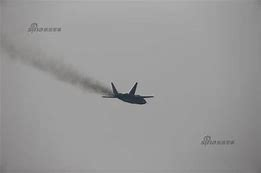smoke: (25, 53, 112, 95)
